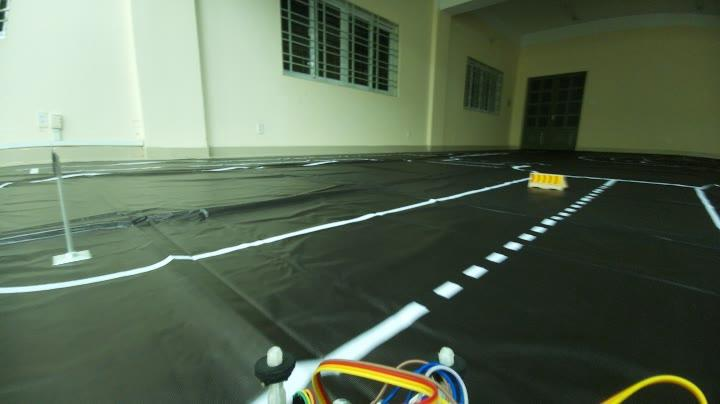roadblock: (520, 166, 564, 191)
